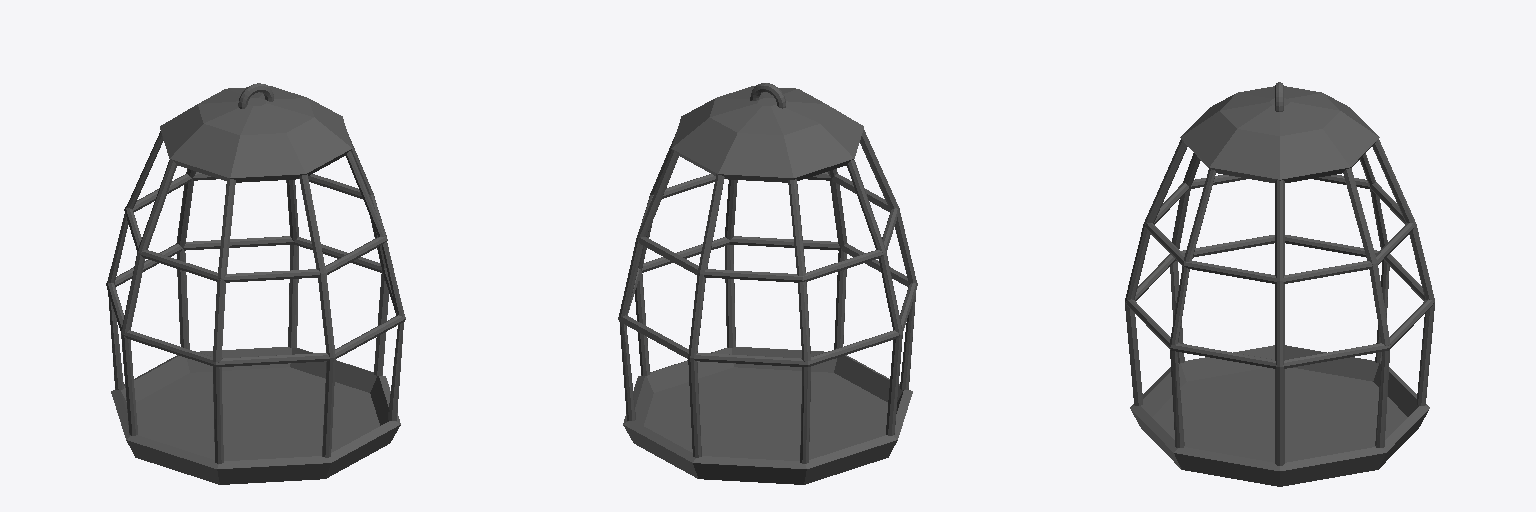
File: cage.obj
3 renders of one model, left to right at view 1: azimuth 30°, elevation 25°; view 2: azimuth 150°, elevation 25°; view 3: azimuth 270°, elevation 25°, orthographic.
Parts seen in each view (by area): view 1: Fond, Sommet, barhor1, Barhor2, Barreau1, Barreau2, Barreau5, Barreau8, Barreau6, Barreau7, Barreau3, Barreau4; view 2: Fond, Sommet, barhor1, Barhor2, Barreau7, Barreau2, Barreau6, Barreau3, Barreau5, Barreau1, Barreau8, Barreau4; view 3: Fond, Sommet, barhor1, Barhor2, Barreau4, Barreau3, Barreau1, Barreau7, Barreau8, Barreau5, Barreau6.
Boxes of the visible parts, box(x1,y1,x2,y2) form: Fond: box(111, 347, 400, 484); Sommet: box(160, 86, 352, 182); barhor1: box(106, 236, 405, 366); Barhor2: box(124, 172, 387, 282); Barreau1: box(299, 174, 335, 457); Barreau2: box(121, 160, 176, 435); Barreau5: box(213, 178, 235, 463); Barreau8: box(346, 151, 403, 420); Barreau6: box(107, 131, 163, 389); Barreau7: box(176, 169, 195, 349); Barreau3: box(286, 180, 298, 347); Barreau4: box(348, 134, 388, 375); Fond: box(623, 347, 912, 484); Sommet: box(671, 86, 863, 182); barhor1: box(618, 236, 917, 366); Barhor2: box(636, 172, 898, 282); Barreau7: box(688, 174, 724, 457); Barreau2: box(847, 160, 902, 435); Barreau6: box(788, 179, 810, 463); Barreau3: box(619, 150, 678, 420); Barreau5: box(860, 130, 916, 389); Barreau1: box(828, 169, 847, 349); Barreau8: box(725, 180, 737, 347); Barreau4: box(635, 134, 675, 375); Fond: box(1130, 345, 1429, 486); Sommet: box(1180, 86, 1379, 182); barhor1: box(1126, 235, 1433, 368); Barhor2: box(1145, 175, 1414, 283); Barreau4: box(1275, 180, 1284, 465); Barreau3: box(1343, 168, 1390, 447); Barreau1: box(1125, 139, 1187, 405); Barreau7: box(1372, 139, 1434, 405); Barreau8: box(1170, 168, 1215, 447); Barreau5: box(1170, 153, 1200, 363); Barreau6: box(1360, 153, 1389, 363).
Size of the model in its own units: 149 by 182 by 149.